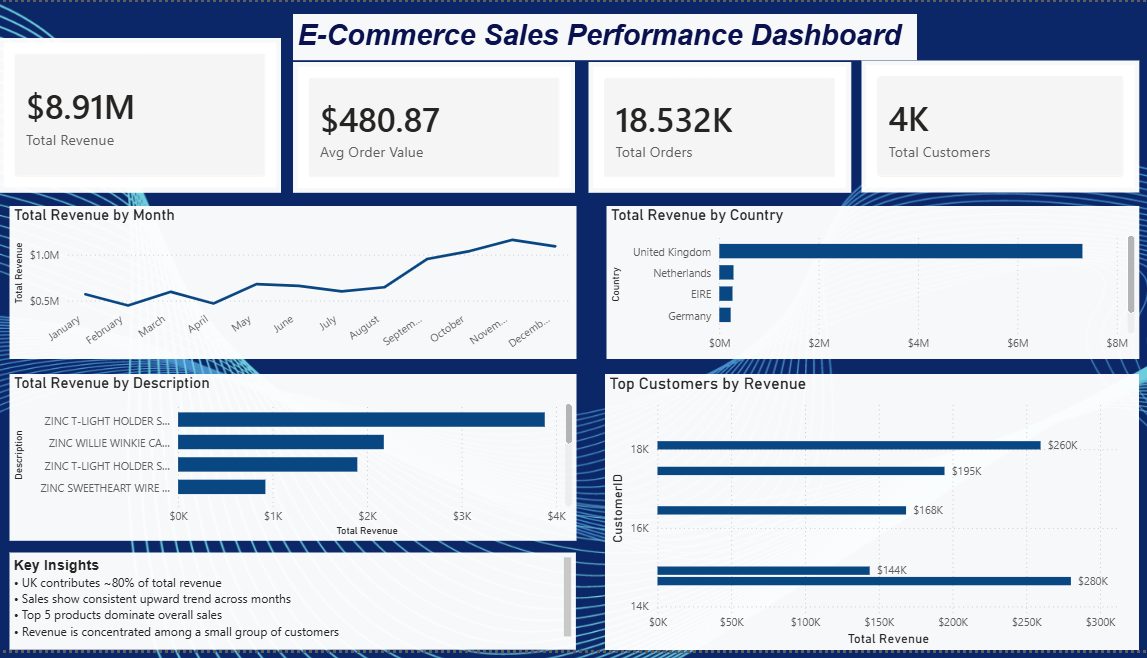

What the dashboard file says about the page in this screenshot:
{"tool":"powerbi","page":{"name":"Page 1","canvas":[1280,720],"ordinal":0},"visuals":[{"type":"cardVisual","fields":{"Data":["Online Retail.Total Revenue"]},"box":[0,40,313.3,171.7],"z":0},{"type":"cardVisual","fields":{"Data":["Online Retail.Total Orders"]},"box":[655,66.7,291.7,145],"z":1000},{"type":"cardVisual","fields":{"Data":["Online Retail.Total Customers"]},"box":[958.3,65,308.3,146.7],"z":2000},{"type":"cardVisual","fields":{"Data":["Online Retail.Avg Order Value"]},"box":[326.7,66.7,313.3,145],"z":3000},{"type":"lineChart","fields":{"Category":["Online Retail.InvoiceDate.Variation.Date Hierarchy.Month"],"Y":["Online Retail.Total Revenue"]},"box":[11.7,226.7,630,170],"z":4000},{"type":"barChart","fields":{"Category":["Online Retail.Country"],"Y":["Online Retail.Total Revenue"]},"box":[675,226.7,591.7,170],"z":5000},{"type":"barChart","fields":{"Category":["Online Retail.Description"],"Y":["Online Retail.Total Revenue"]},"box":[11.7,413.3,630,185],"z":6000},{"type":"textbox","box":[11.3,612.3,629.3,107.7],"z":7000},{"type":"barChart","title":"Top Customers by Revenue","fields":{"Category":["Online Retail.CustomerID"],"Y":["Online Retail.Total Revenue"]},"box":[673.3,413.3,593.3,306.7],"z":8000},{"type":"textbox","box":[326.9,13.2,693.5,51],"z":9000}]}

Visuals, with their boxes in screenshot pixels (x1, y1, x2, y2), scaled from the page's 1280x720 canvas onto the 1147x658 screenshot:
cardVisual - Online Retail.Total Revenue: pyautogui.locateOnScreen(0, 37, 281, 193)
cardVisual - Online Retail.Total Orders: pyautogui.locateOnScreen(587, 61, 848, 193)
cardVisual - Online Retail.Total Customers: pyautogui.locateOnScreen(859, 59, 1135, 193)
cardVisual - Online Retail.Avg Order Value: pyautogui.locateOnScreen(293, 61, 574, 193)
lineChart - Online Retail.InvoiceDate.Variation.Date Hierarchy.Month x Online Retail.Total Revenue: pyautogui.locateOnScreen(10, 207, 575, 363)
barChart - Online Retail.Country x Online Retail.Total Revenue: pyautogui.locateOnScreen(605, 207, 1135, 363)
barChart - Online Retail.Description x Online Retail.Total Revenue: pyautogui.locateOnScreen(10, 378, 575, 547)
textbox: pyautogui.locateOnScreen(10, 560, 574, 657)
"Top Customers by Revenue" barChart: pyautogui.locateOnScreen(603, 378, 1135, 657)
textbox: pyautogui.locateOnScreen(293, 12, 914, 59)
